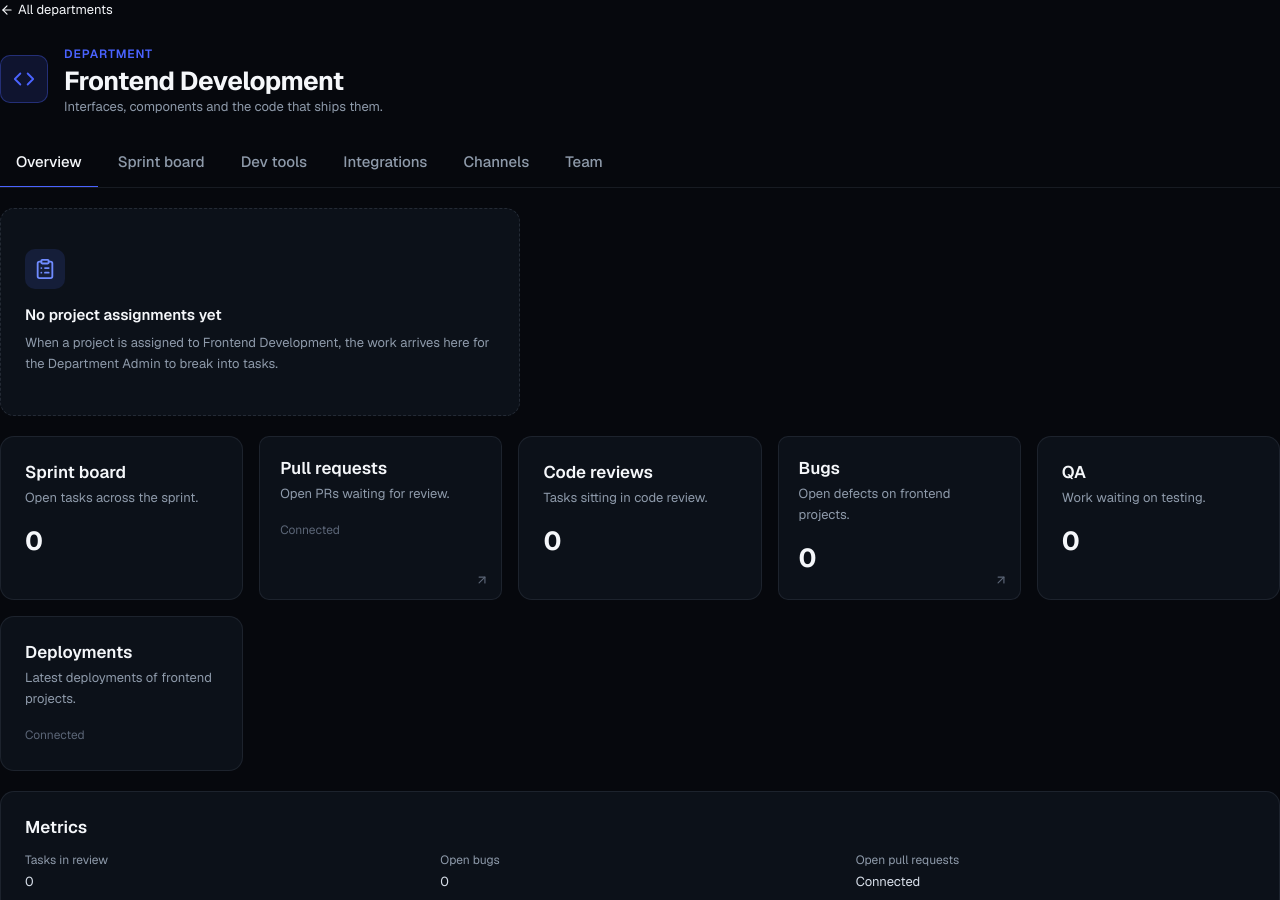
Test: Department environment › turns a tool into a link once its integration is connected
Click the tab "Dev tools": (274, 163) [225,138,323,188]
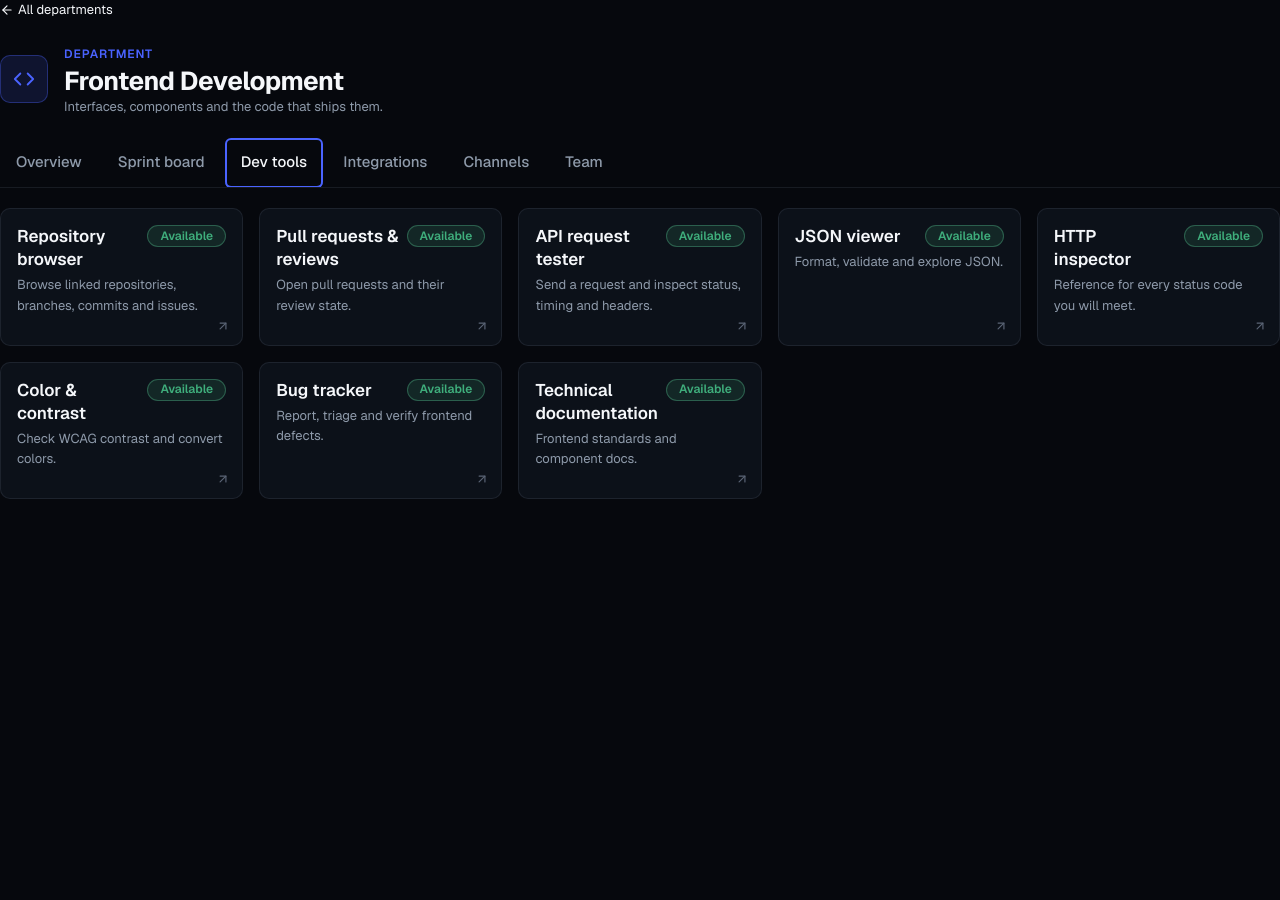
Now the heading "Repository browser" is shown, box [17,225,105,270]
